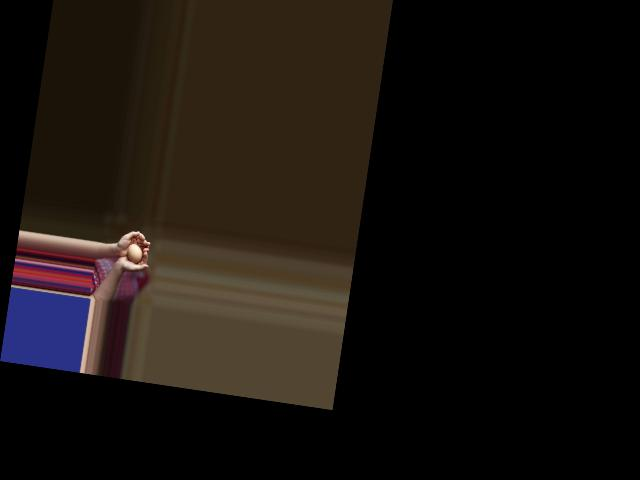egg: (126, 243, 144, 264)
